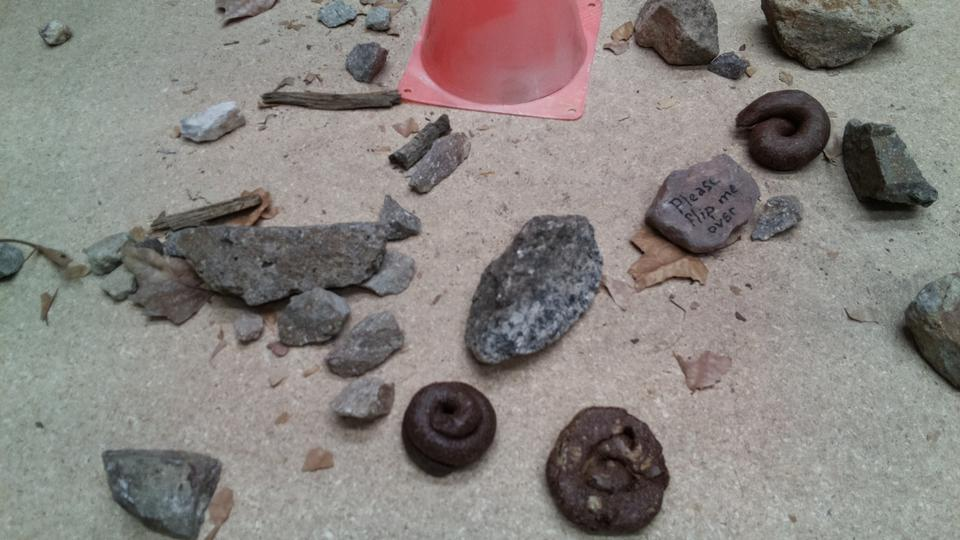poop: (542, 402, 672, 535), (403, 379, 496, 477), (737, 88, 831, 172)
